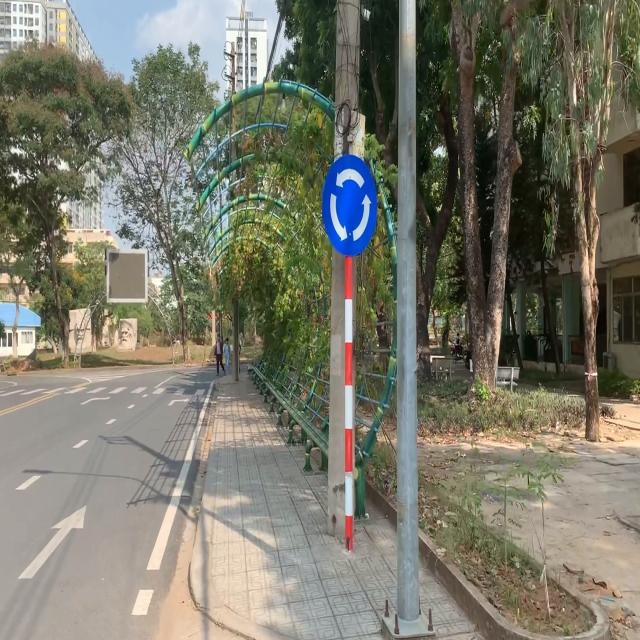Vong xuyen: (322, 154, 378, 257)
